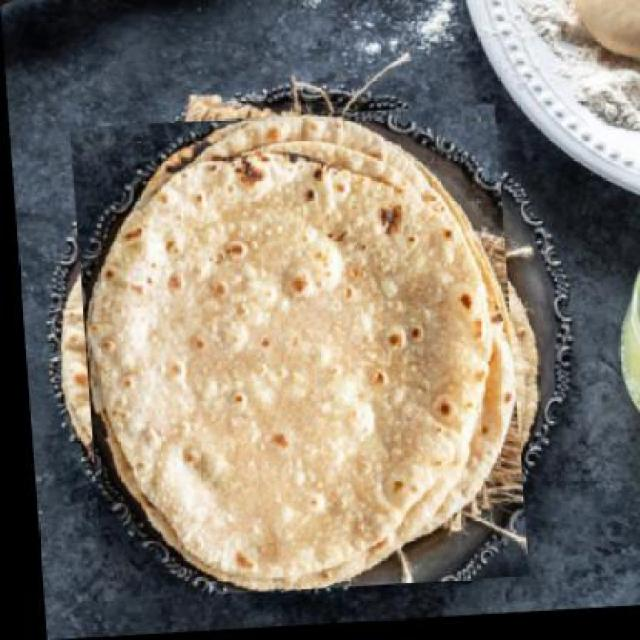chapati: (55, 121, 532, 594)
